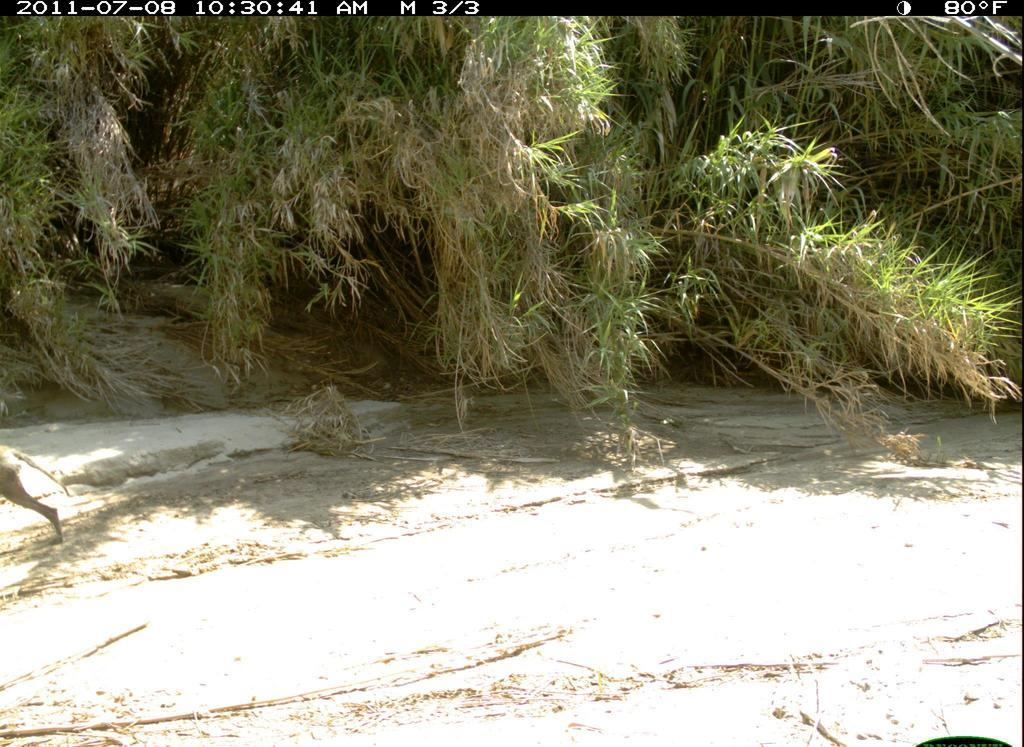coyote: (3, 443, 76, 547)
